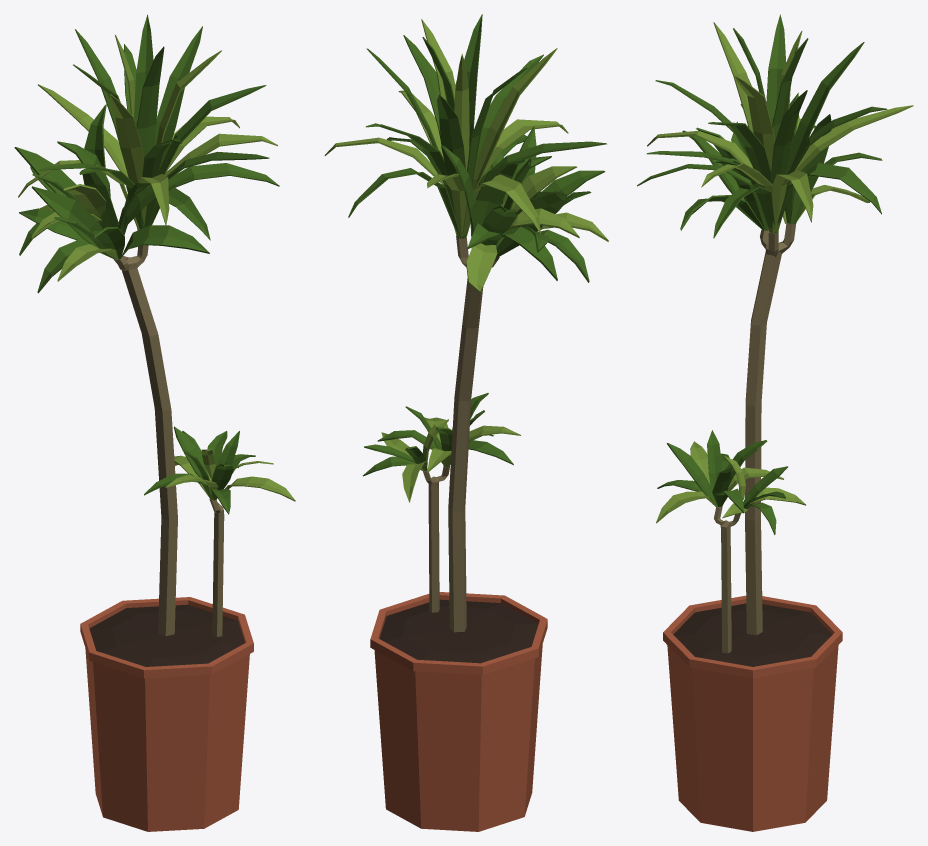
The model's file is Plant 3.fbx.
3 renders of one model, left to right at view 1: azimuth 30°, elevation 25°; view 2: azimuth 150°, elevation 25°; view 3: azimuth 270°, elevation 25°, orthographic. The views are drawn at different scales.
Parts seen in each view (by area): view 1: Plant 3, Leaf; view 2: Plant 3, Leaf; view 3: Plant 3, Leaf.
Boxes of the visible parts, bbox=[...] form: Plant 3: bbox=[80, 245, 253, 831]; Leaf: bbox=[14, 14, 295, 514]; Plant 3: bbox=[370, 236, 547, 831]; Leaf: bbox=[324, 14, 608, 502]; Plant 3: bbox=[663, 223, 842, 831]; Leaf: bbox=[637, 14, 913, 534].
Size of the model in its own units: 49.7 by 152 by 49.76.
